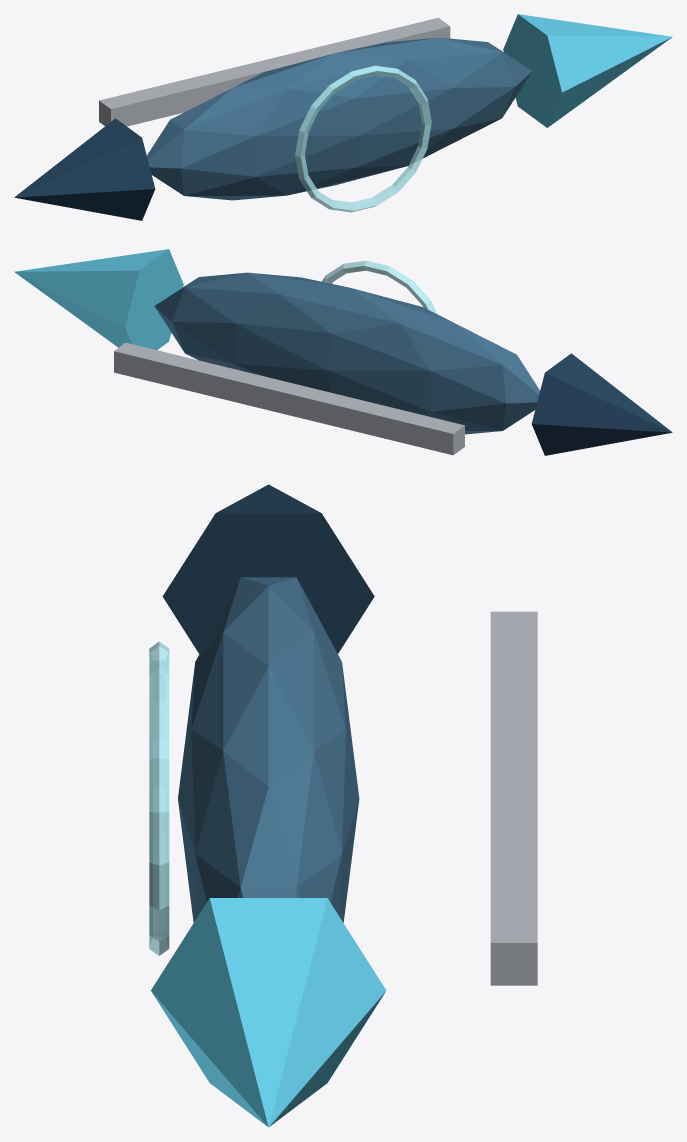
Rendered from 05_skyship_hull.glb.
3 renders of one model, top to bottom at view 1: azimuth 30°, elevation 25°; view 2: azimuth 150°, elevation 25°; view 3: azimuth 270°, elevation 25°, orthographic. The views are drawn at different scales.
Visible parts, largest first — view 1: hull_low_poly, bow_upgrade, stern_fin, keel_plate, size_class_ring; view 2: hull_low_poly, keel_plate, bow_upgrade, stern_fin, size_class_ring; view 3: hull_low_poly, bow_upgrade, keel_plate, stern_fin, size_class_ring.
Boxes of the visible parts, <box> form: hull_low_poly: <box>147,37,532,200</box>; bow_upgrade: <box>503,14,672,127</box>; stern_fin: <box>14,118,155,220</box>; keel_plate: <box>99,17,450,126</box>; size_class_ring: <box>295,65,431,212</box>; hull_low_poly: <box>154,272,539,434</box>; keel_plate: <box>114,342,464,455</box>; bow_upgrade: <box>14,249,183,349</box>; stern_fin: <box>531,353,672,455</box>; size_class_ring: <box>322,260,436,313</box>; hull_low_poly: <box>178,577,359,922</box>; bow_upgrade: <box>151,898,386,1127</box>; keel_plate: <box>490,611,537,985</box>; stern_fin: <box>162,484,374,653</box>; size_class_ring: <box>149,641,169,955</box>.
Bounding box in the file's own units: 1.86 × 0.3801 × 0.4747.
